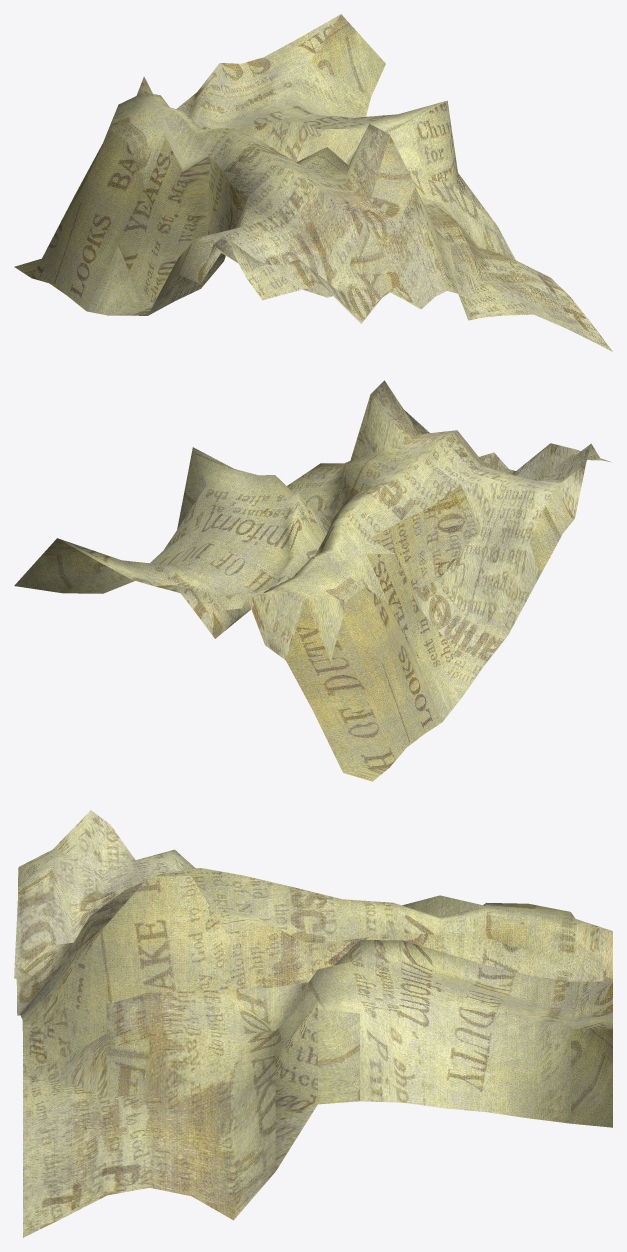
File: znewspap.fbx
3 renders of one model, top to bottom at view 1: azimuth 30°, elevation 25°; view 2: azimuth 150°, elevation 25°; view 3: azimuth 270°, elevation 25°, orthographic. The views are drawn at different scales.
Parts seen in each view (by area): view 1: pPlane3; view 2: pPlane3; view 3: pPlane3.
Boxes of the visible parts, bbox=[...] form: pPlane3: bbox=[14, 14, 612, 351]; pPlane3: bbox=[14, 380, 611, 781]; pPlane3: bbox=[14, 810, 612, 1237].
Size of the model in its own units: 1.88 by 1.07 by 2.11.
1 material, 1 textured.
